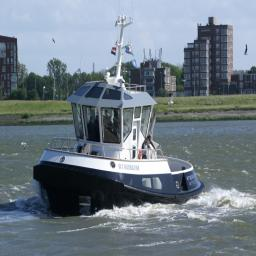tugboat: (32, 15, 207, 224)
